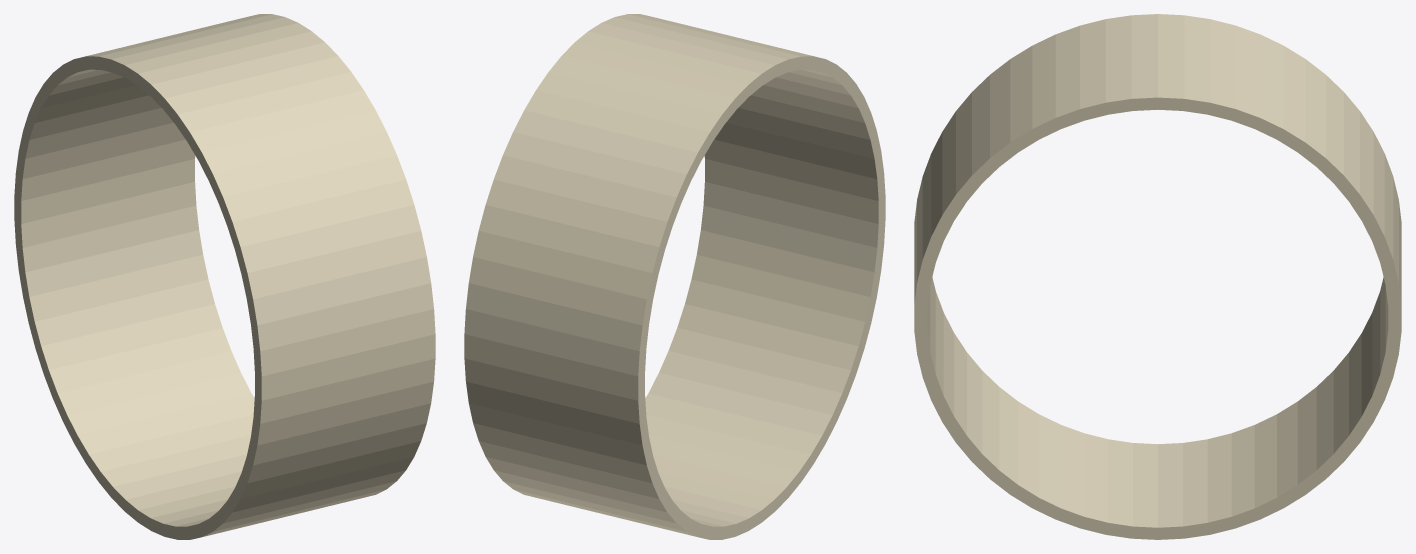
File: cam-bearing.glb
The picture shows the model from 3 angles, left to right: view 1: azimuth 30°, elevation 25°; view 2: azimuth 150°, elevation 25°; view 3: azimuth 270°, elevation 25°; orthographic projection.
Visible parts, largest first — view 1: world; view 2: world; view 3: world.
Part boxes in pixels (x1,y1,x2,y2): world: (14, 14, 435, 539); world: (464, 14, 885, 539); world: (914, 14, 1401, 539).
Bounding box in the file's own units: 0.022 × 0.0543 × 0.0542.
